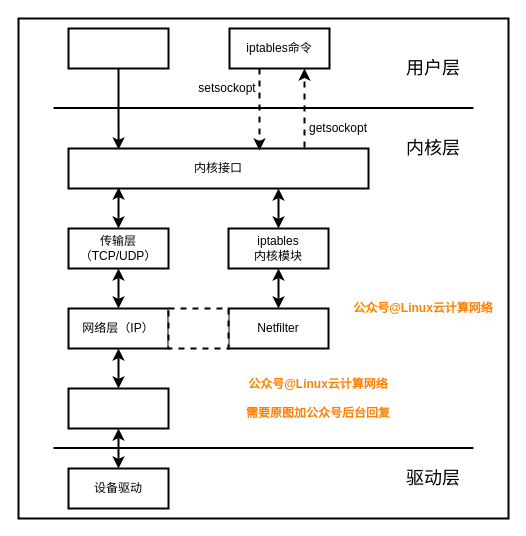
Some shapes in this 526 by 536 pixel diagram are drawn without their labels. The box of each missing label's shape, as (x1, y1, x2, y2) in pixels:
hook: (167, 307, 229, 349)
系统调用: (67, 27, 169, 69)
网络接口层: (67, 387, 169, 429)
